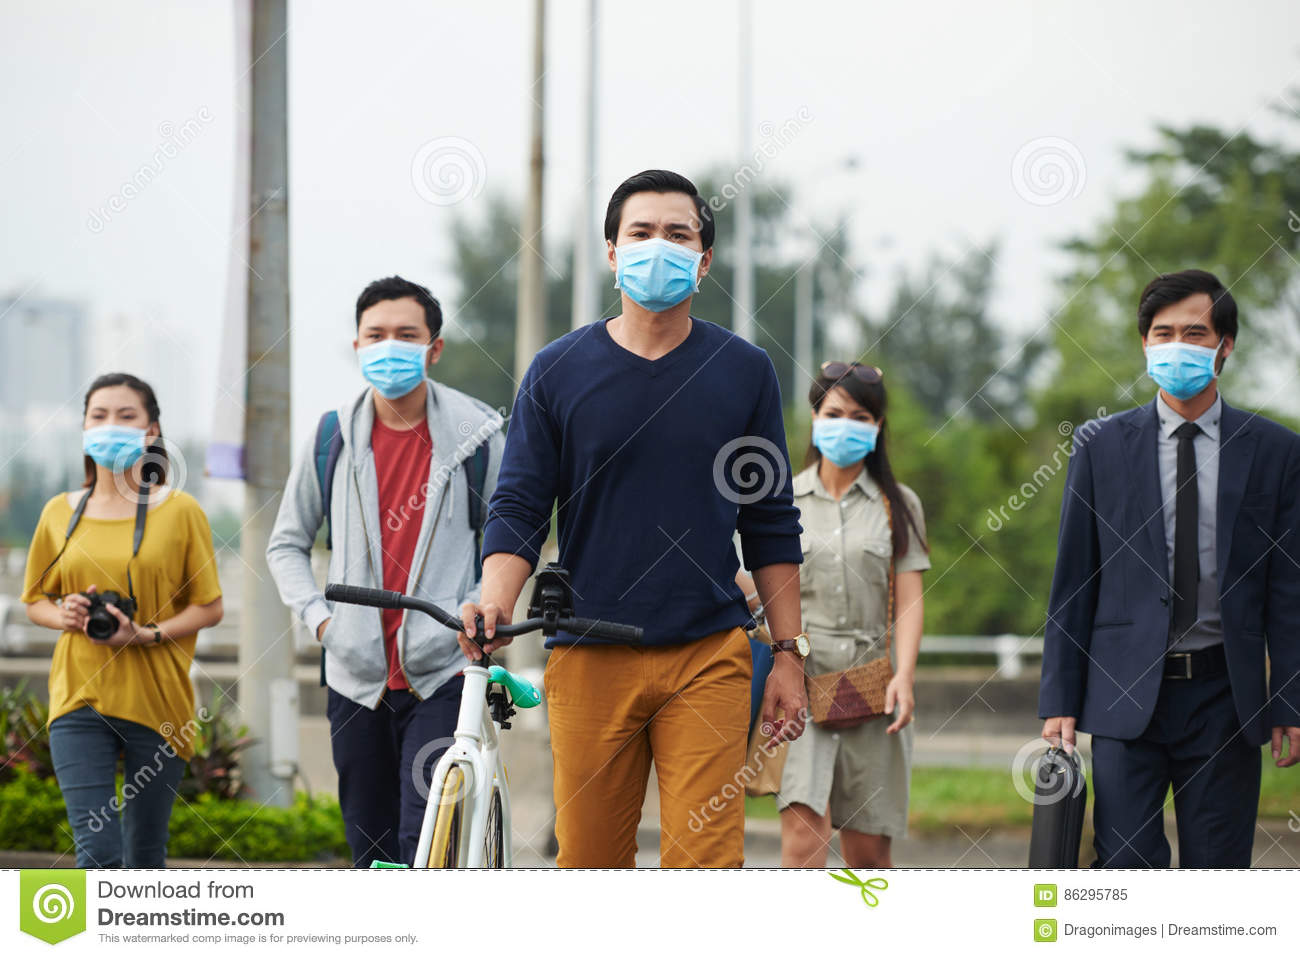mask: (616, 236, 701, 311), (1145, 339, 1218, 404), (360, 342, 426, 399)
